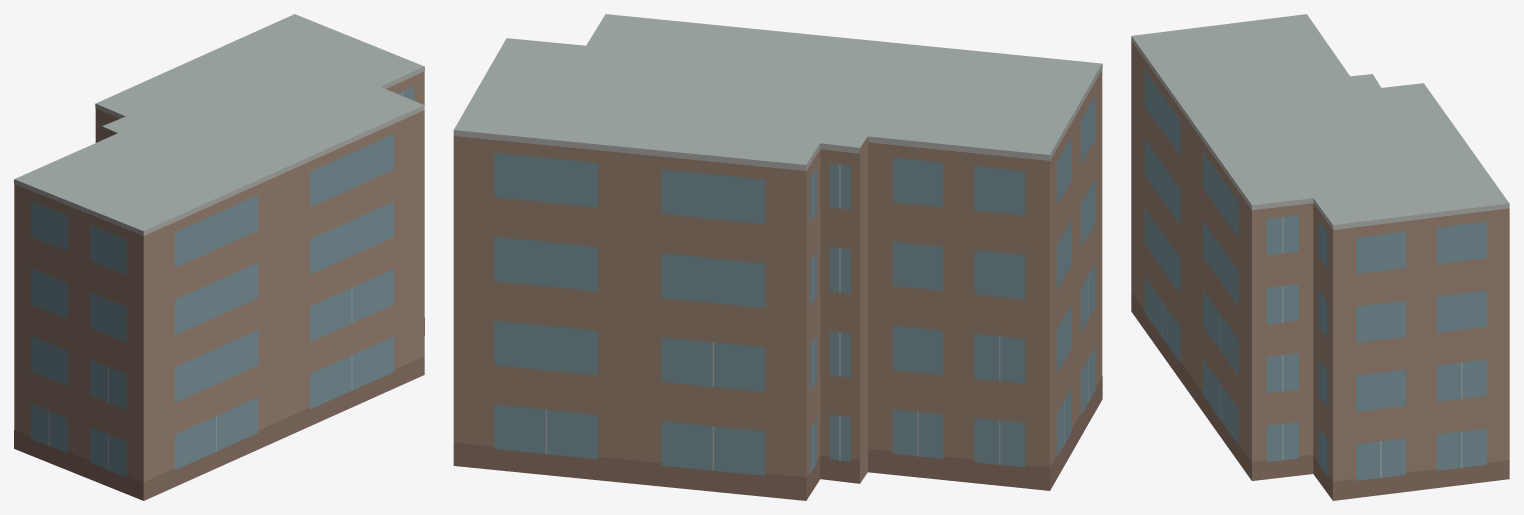
Rendered from survey-upis-32916353.glb.
3 views of the same model, side by side, from view 1: azimuth 30°, elevation 25°; view 2: azimuth 150°, elevation 25°; view 3: azimuth 270°, elevation 25° (orthographic). The views are drawn at different scales.
Parts seen in each view (by area): view 1: survey-upis-32916353.tmp; view 2: survey-upis-32916353.tmp; view 3: survey-upis-32916353.tmp.
Boxes of the visible parts, x1,y1,x2,y2 form: survey-upis-32916353.tmp: (14, 14, 424, 500); survey-upis-32916353.tmp: (453, 14, 1102, 500); survey-upis-32916353.tmp: (1131, 14, 1509, 500).
Size of the model in its own units: 22.69 by 13.8 by 17.17.
